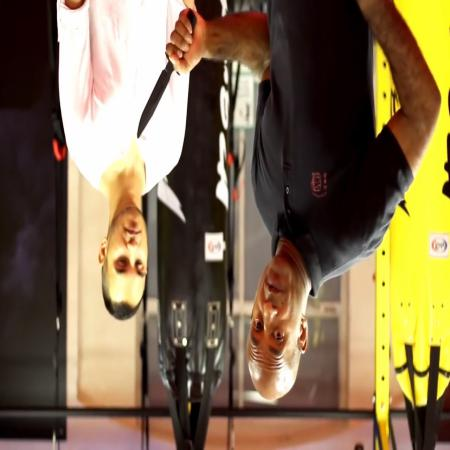long weapon: (135, 3, 199, 142)
